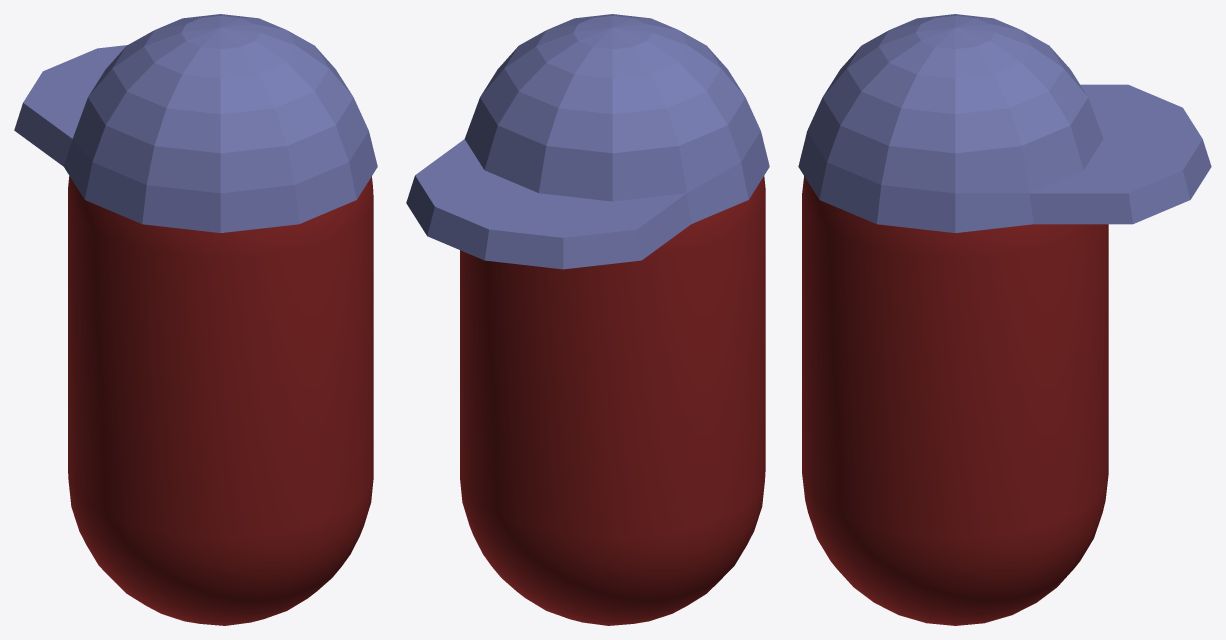
The model's file is Hat.fbx.
The picture shows the model from 3 angles, left to right: view 1: azimuth 30°, elevation 25°; view 2: azimuth 150°, elevation 25°; view 3: azimuth 270°, elevation 25°; orthographic projection.
Parts seen in each view (by area): view 1: Model12; view 2: Model12; view 3: Model12.
Part boxes in pixels (left/top/right/bottom): Model12: left=14, top=14, right=377, bottom=625; Model12: left=406, top=14, right=769, bottom=625; Model12: left=798, top=14, right=1211, bottom=625.
Size of the model in its own units: 102 by 210 by 135.
